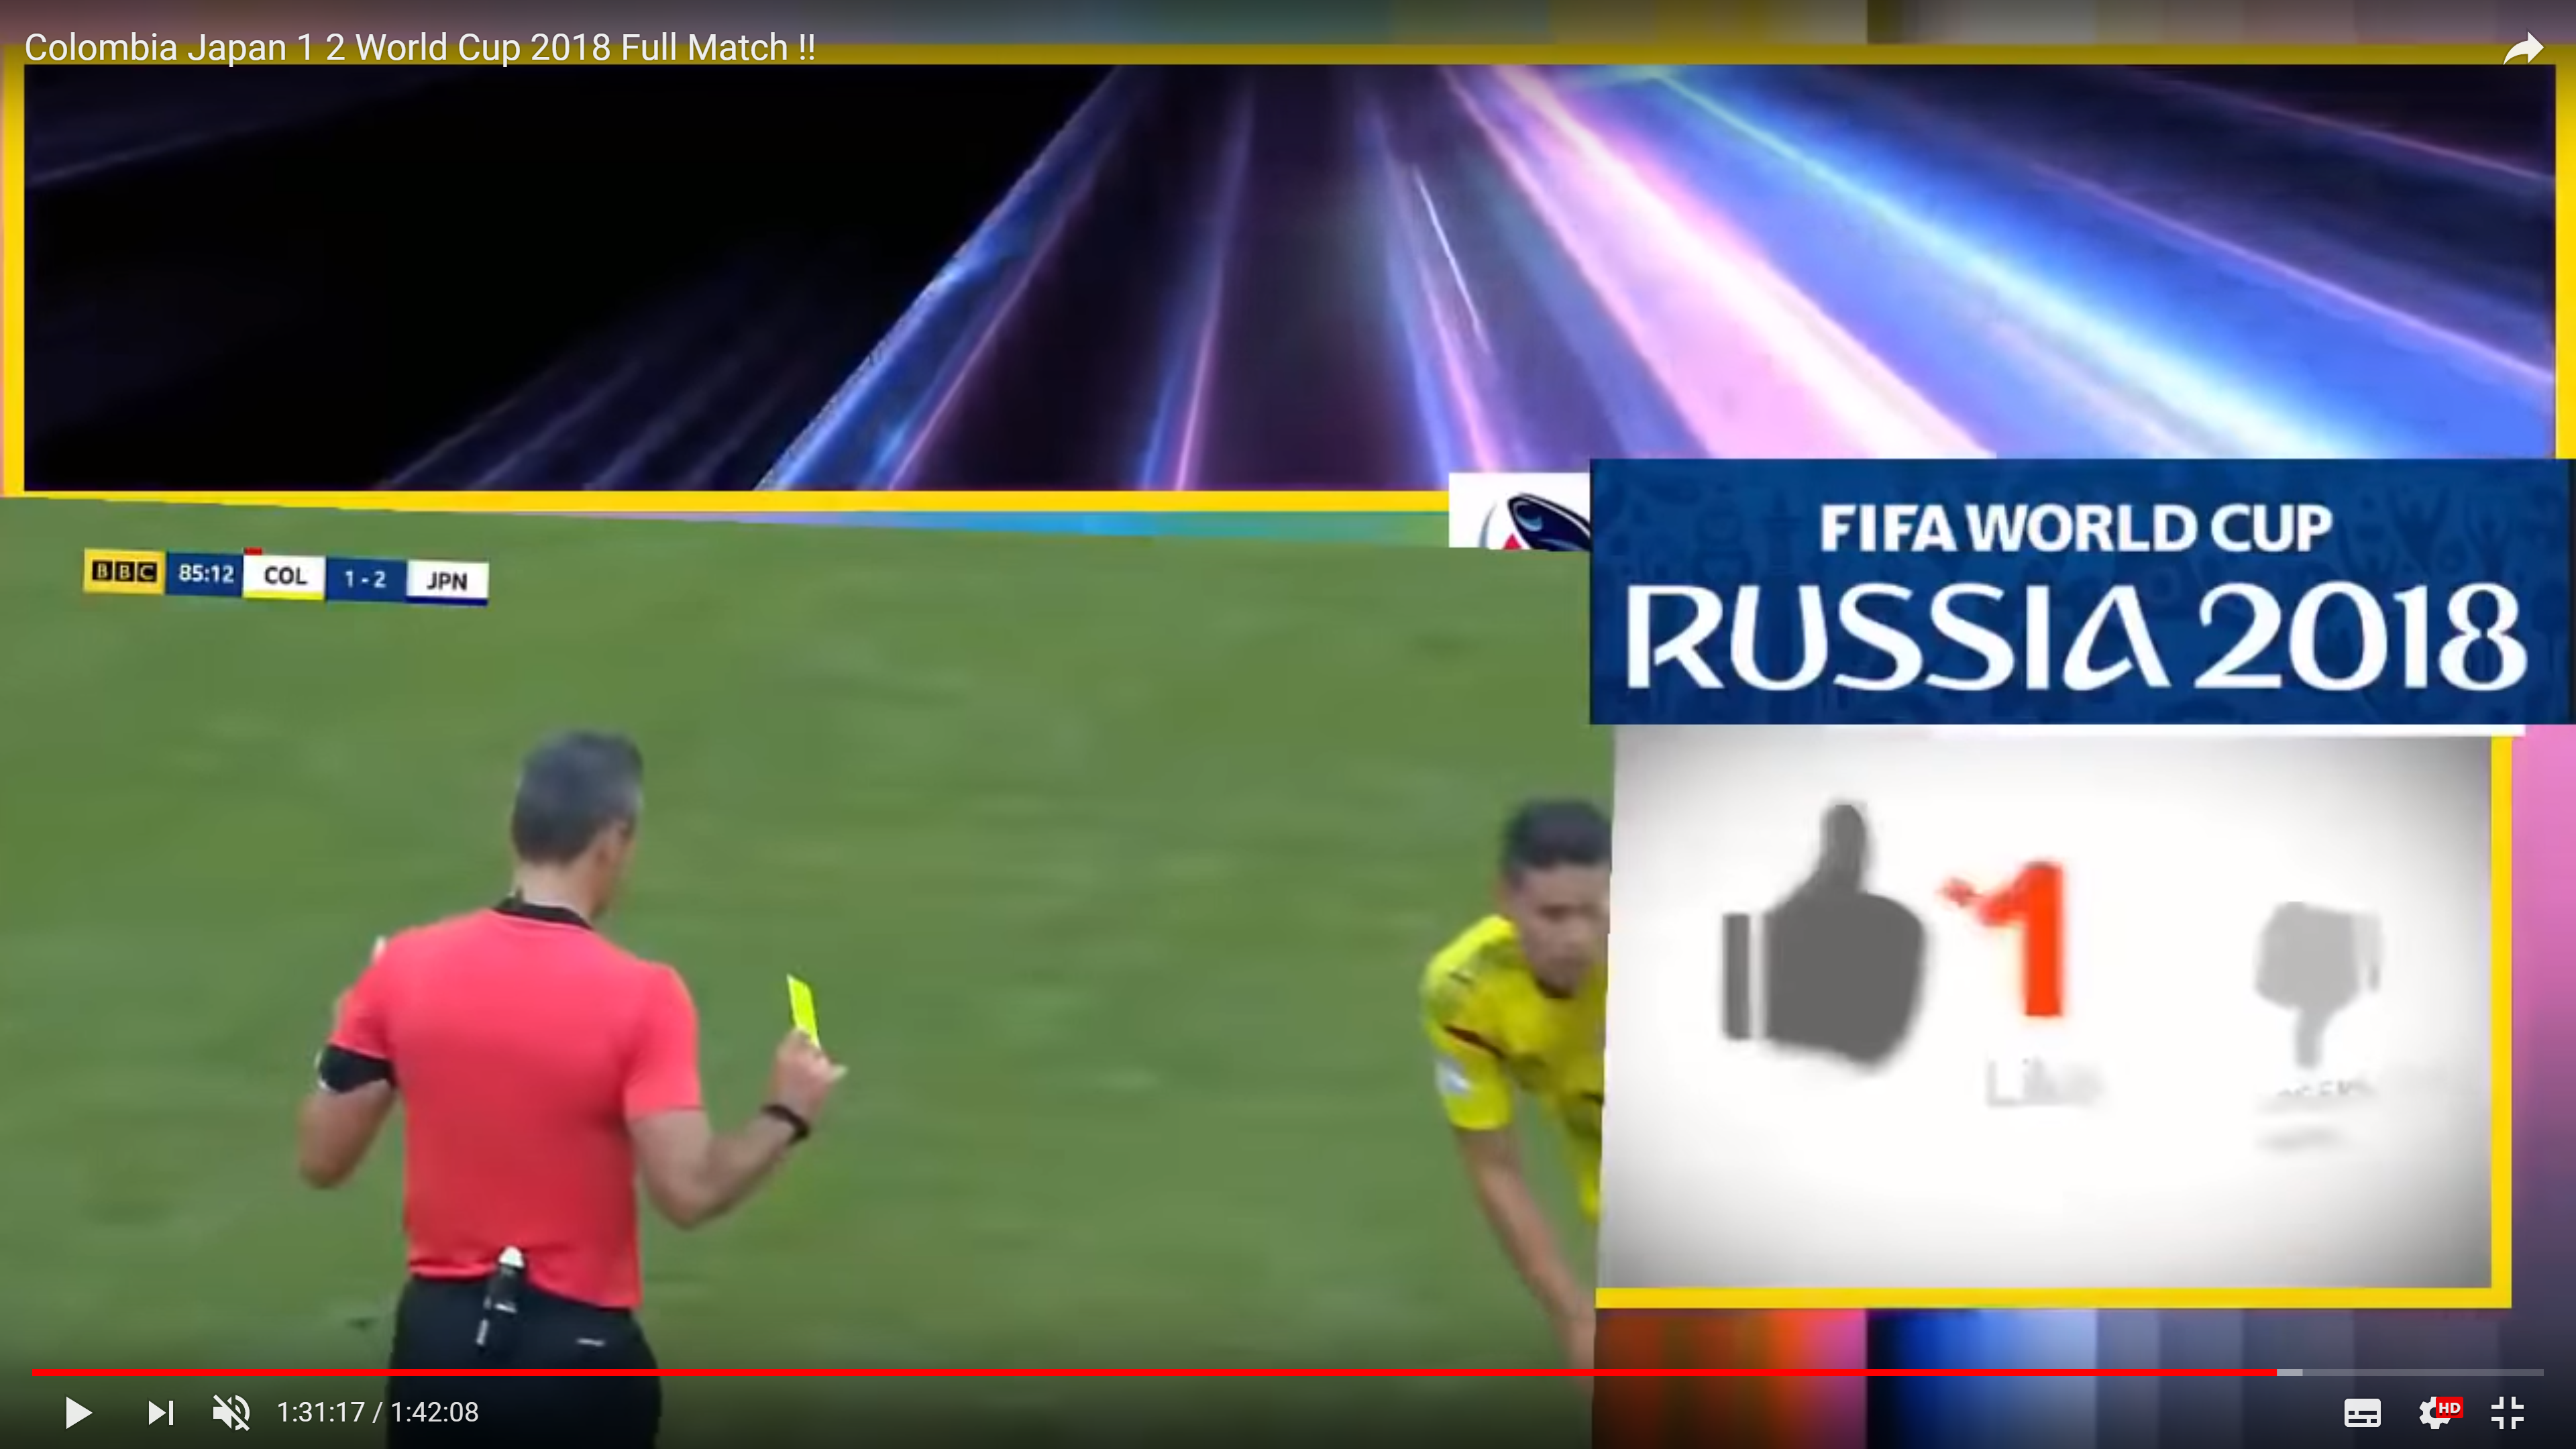yellow_card: (763, 957, 844, 1123)
